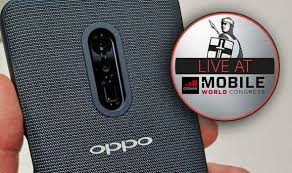oppo: (1, 1, 219, 173)
